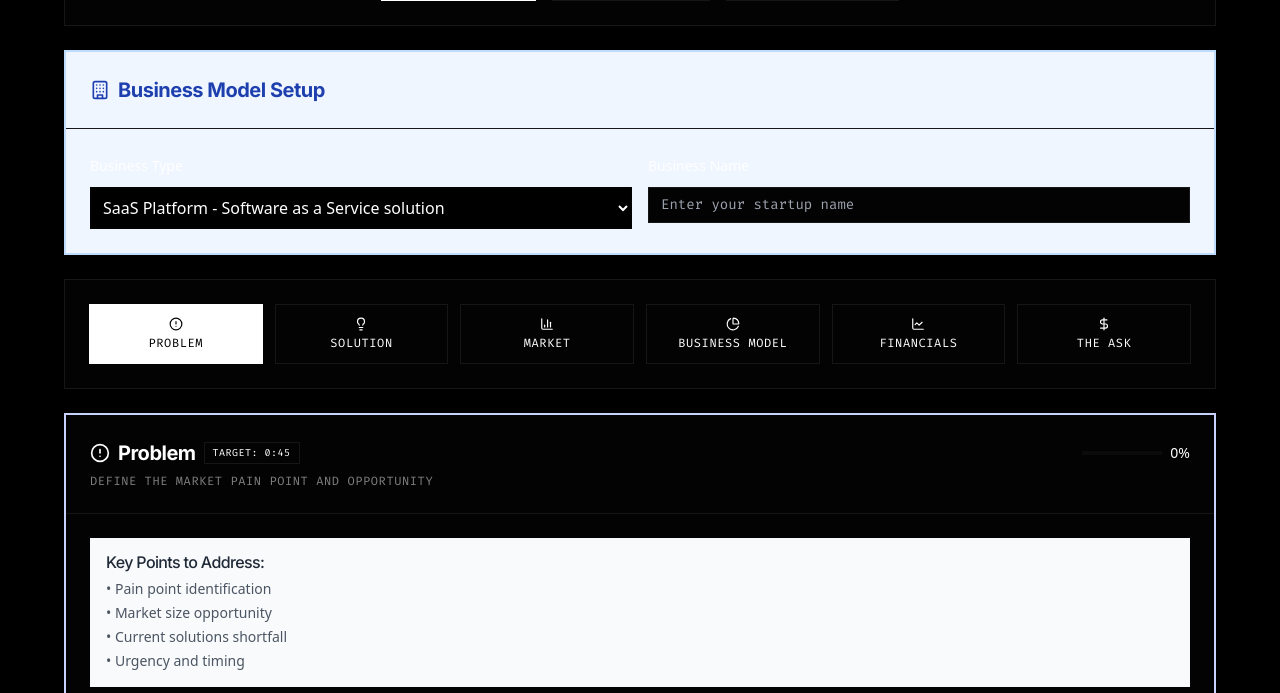
it: PitchPresentationBuilder › navigates between pitch sections
The image size is (1280, 693).
(page scrolled)
Expected: the text "Define the market pain point and opportunity" is shown, [90,473,433,489]
What coordinates should you click on to do the following:
click the button "Market"
I would click on:
 (547, 334)
Its box is [460,304,634,364].
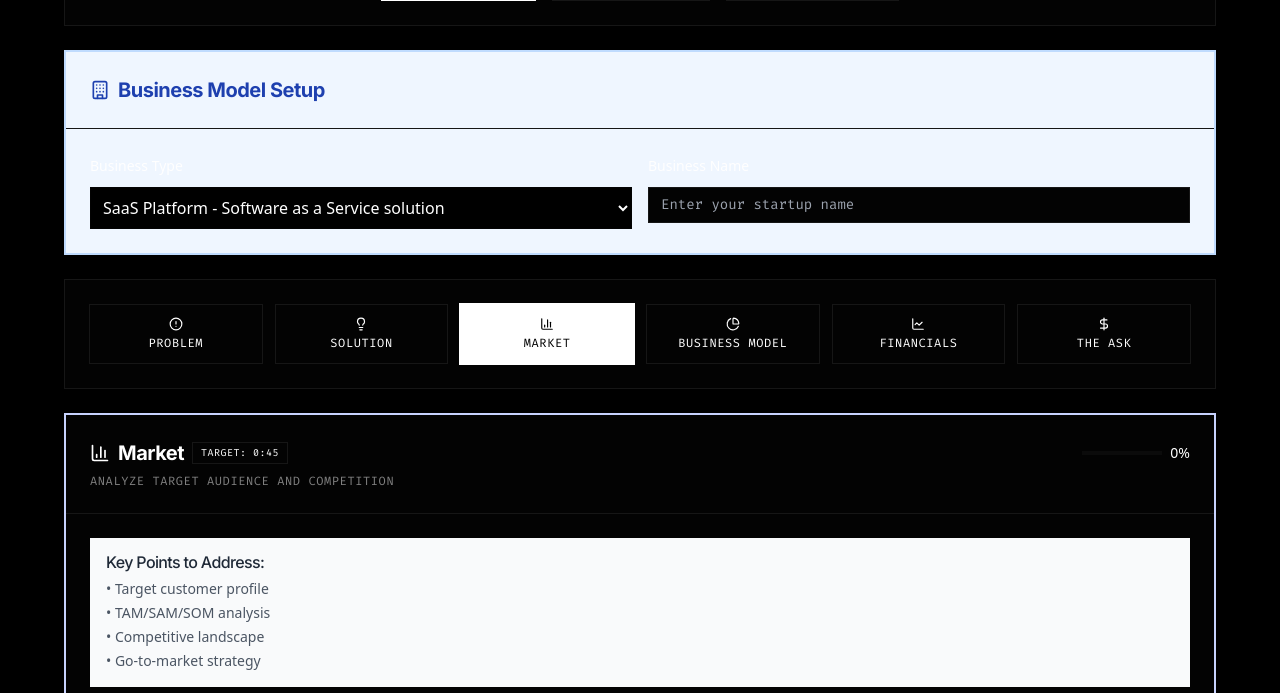
Now the text "Analyze target audience and competition" is shown, box [90,473,394,489]
